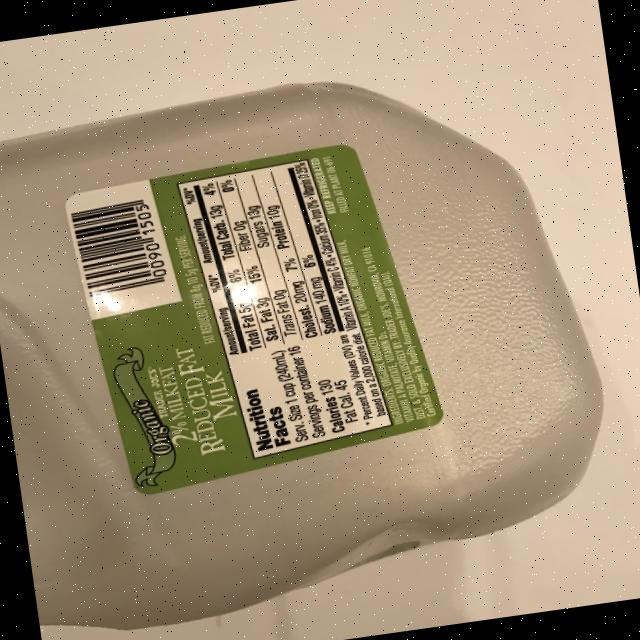plastic: (0, 45, 627, 640)
